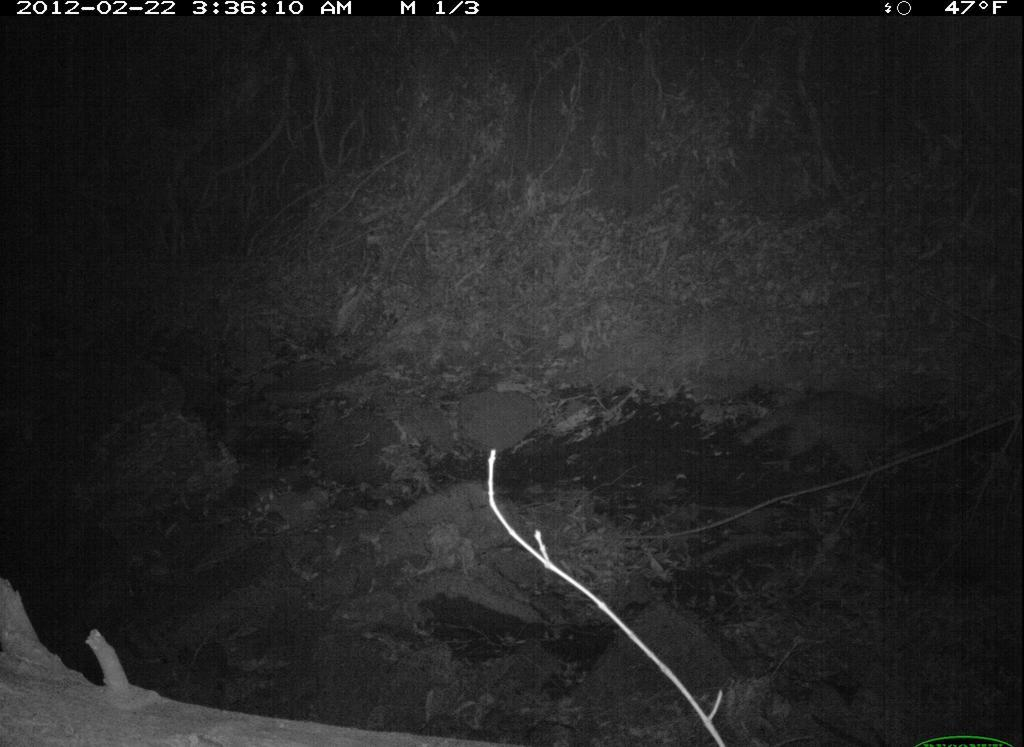raccoon: (735, 377, 940, 496)
